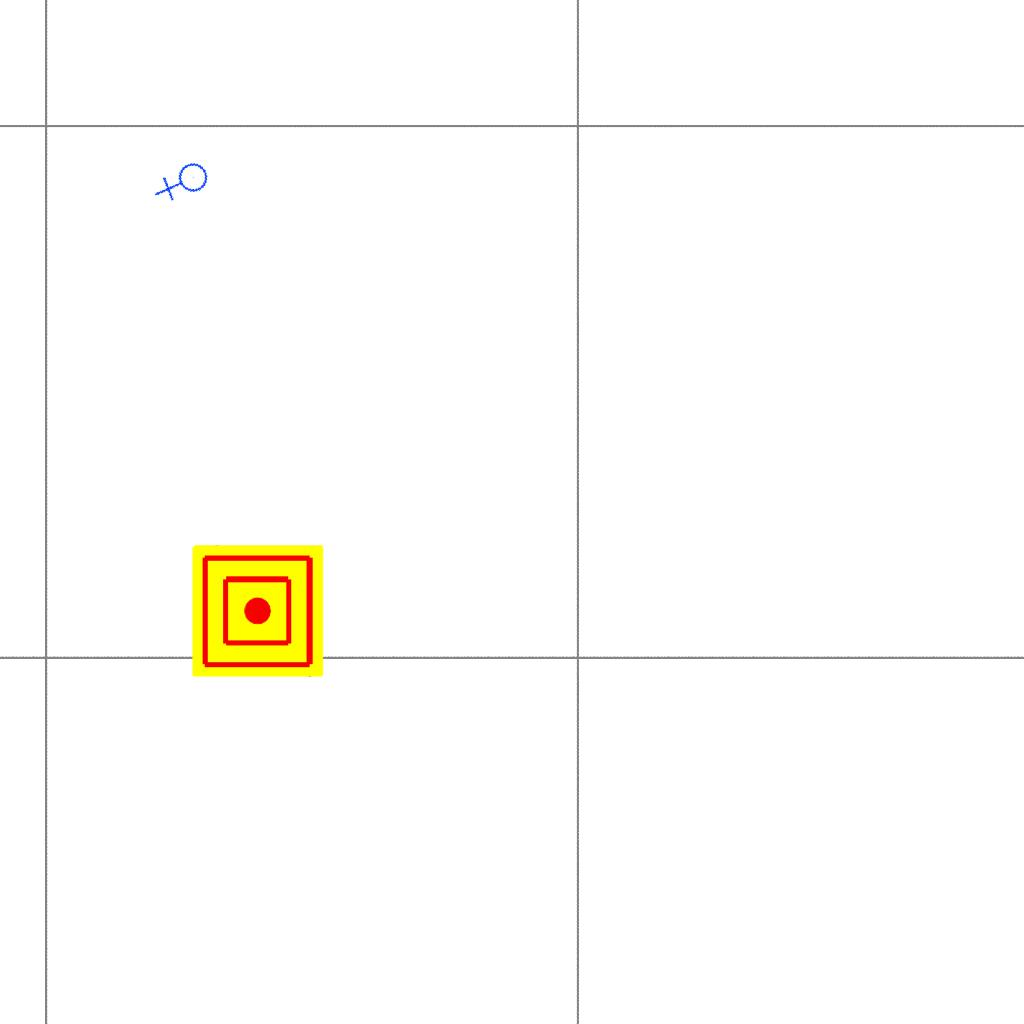Elektroanschluss_allgemein_230V_Geraeteanschlussdose_230V: (153, 153, 216, 214)
NAM-Nichtautomatischer_Melder: (192, 545, 324, 677)
